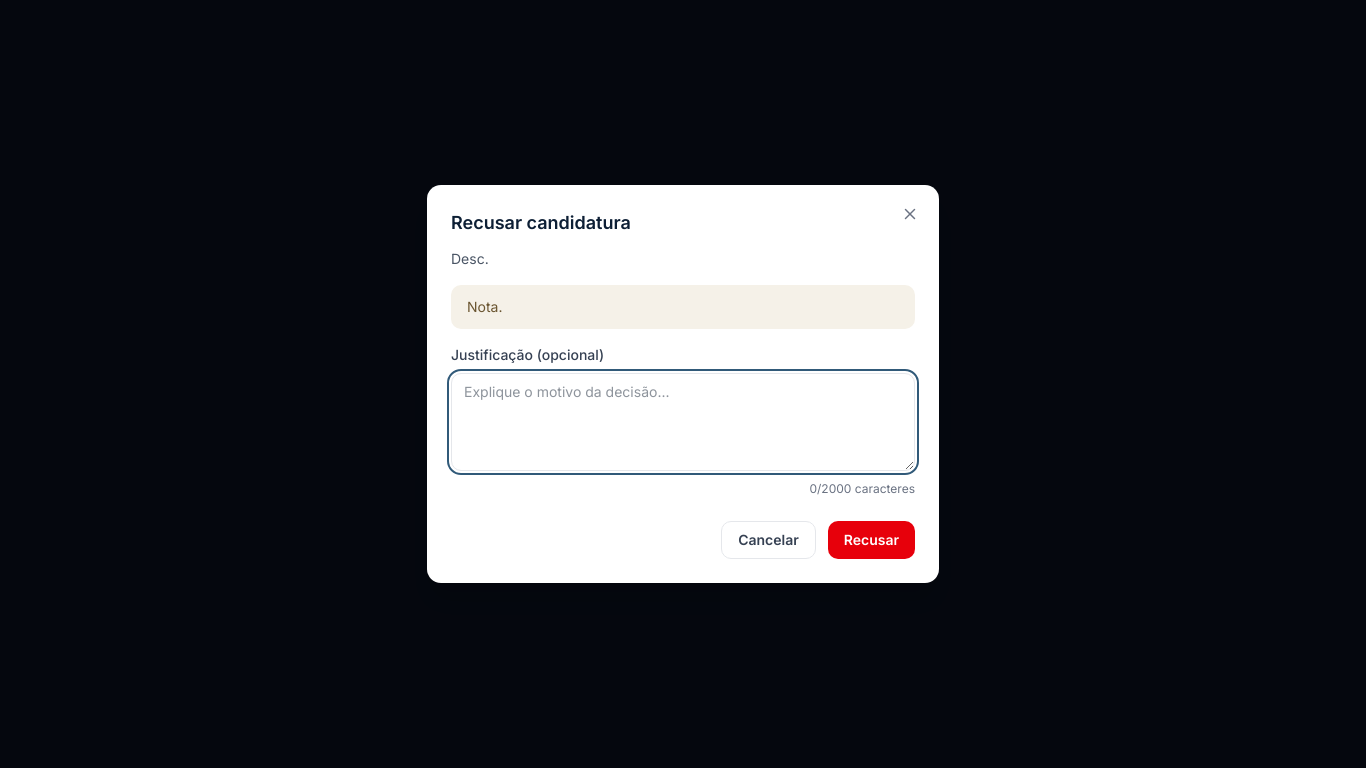
Test: ReasonDialog › o contador acompanha o texto escrito e descreve o campo
Step 1. Type "Motivo" into the text box labelled "Justificação (opcional)" → (683, 422), box 451,373 -> 915,471
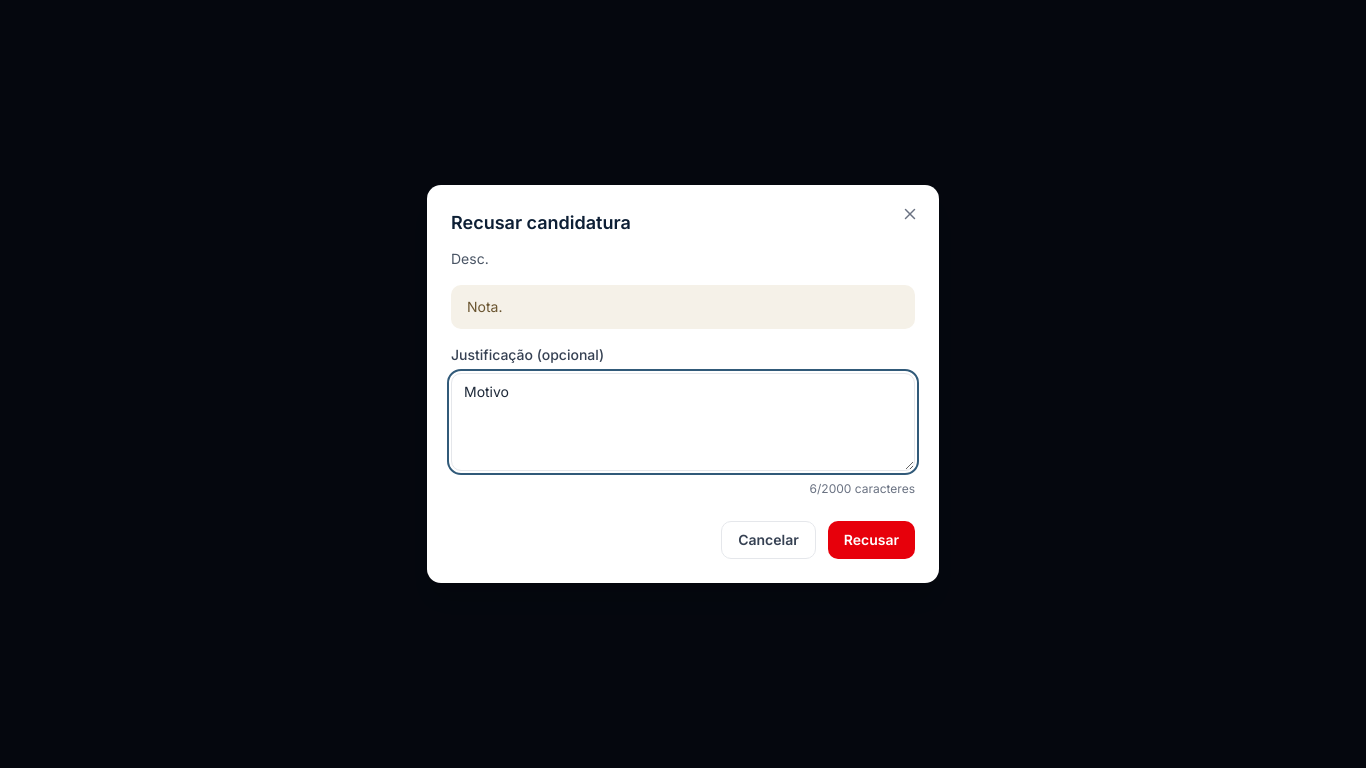
Check: the text "6/2000 caracteres" is shown, box 810,481 -> 915,497
